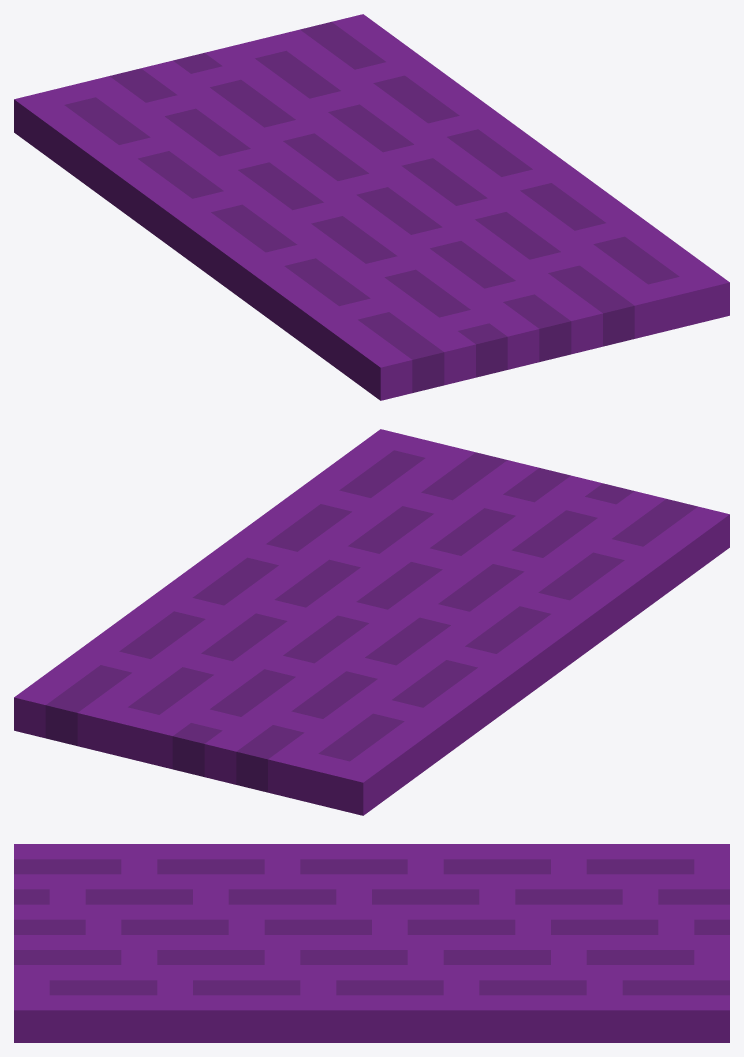
File: BlocksAndFloors-20.obj
3 views of the same model, one above another, from view 1: azimuth 30°, elevation 25°; view 2: azimuth 150°, elevation 25°; view 3: azimuth 270°, elevation 25° (orthographic). The views are drawn at different scales.
Bounding box in the file's own units: 1.1 × 0.1 × 2.
1 material, 1 textured.
